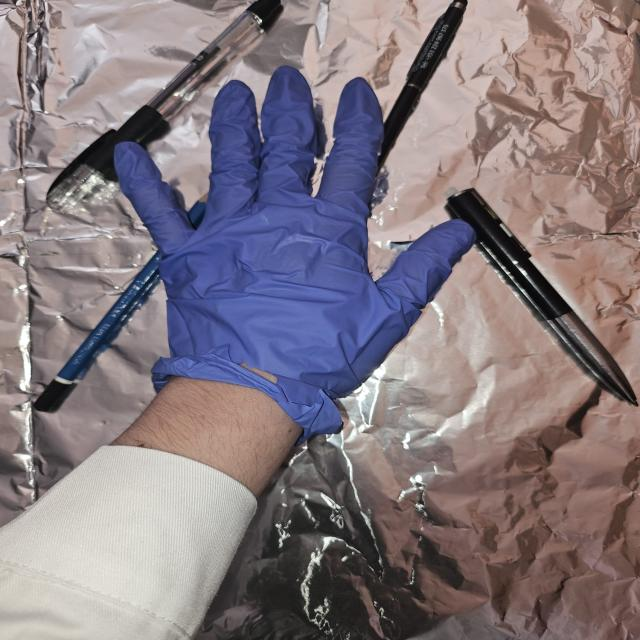gloves_damaged: (110, 62, 480, 444)
